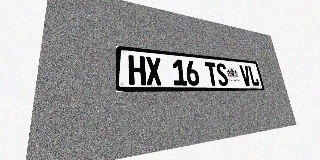1: (171, 59, 187, 85)
6: (185, 60, 200, 86)
H: (128, 55, 146, 85)
L: (247, 66, 260, 86)
S: (215, 63, 229, 86)
T: (204, 62, 219, 86)
V: (239, 65, 252, 86)
X: (145, 56, 162, 85)
